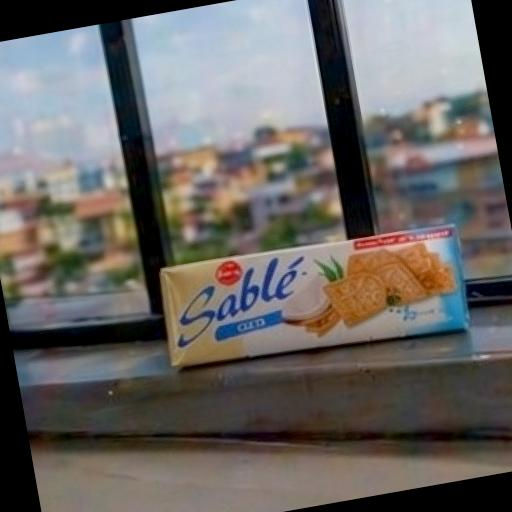sable: (94, 161, 512, 475)
